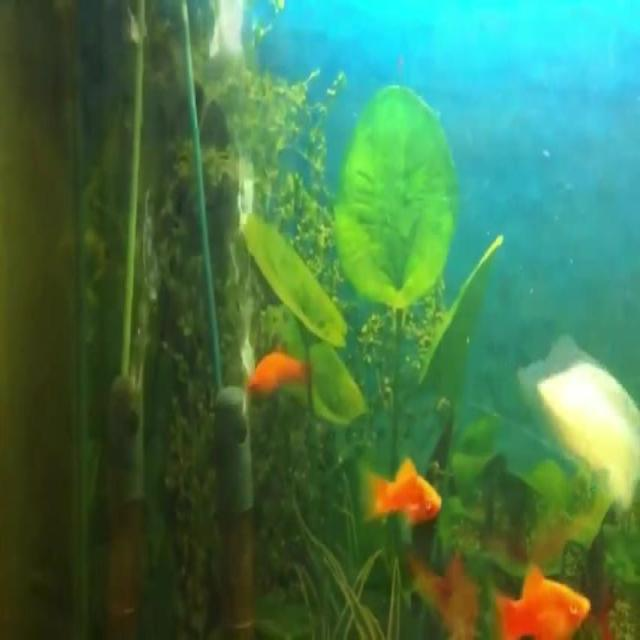PlatyFish: (341, 447, 450, 541), (490, 553, 603, 640)
